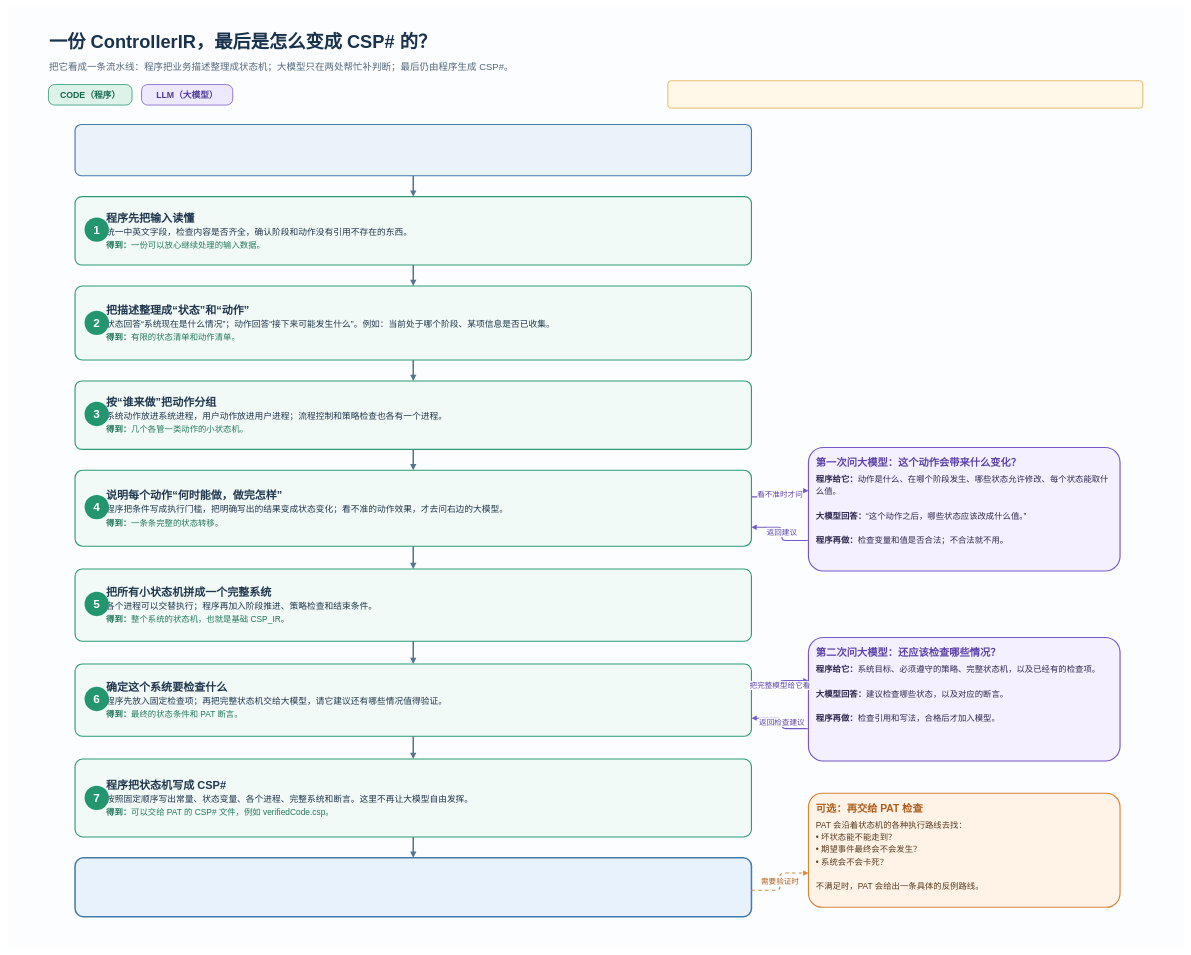
Some shapes in this 1191 by 955 pixel diagram are drawn without their labels. Each missing label, with the centre of its shape:
"先记住一句话： 大模型不会直接写整份 CSP#。它只返回建议，程序检查后才会采用。" belongs at point 905,94.
"终点｜CSP# 文件 它是上面那个完整状态机的文本表达：每个进程能做哪些动作、动作如何改变状态、系统需要满足哪些检查。" belongs at point 413,887.
"起点｜拿到 ControllerIR 里面写着：有哪些阶段、有哪些参与者、每个参与者能做什么动作、需要遵守什么规则。" belongs at point 413,150.
